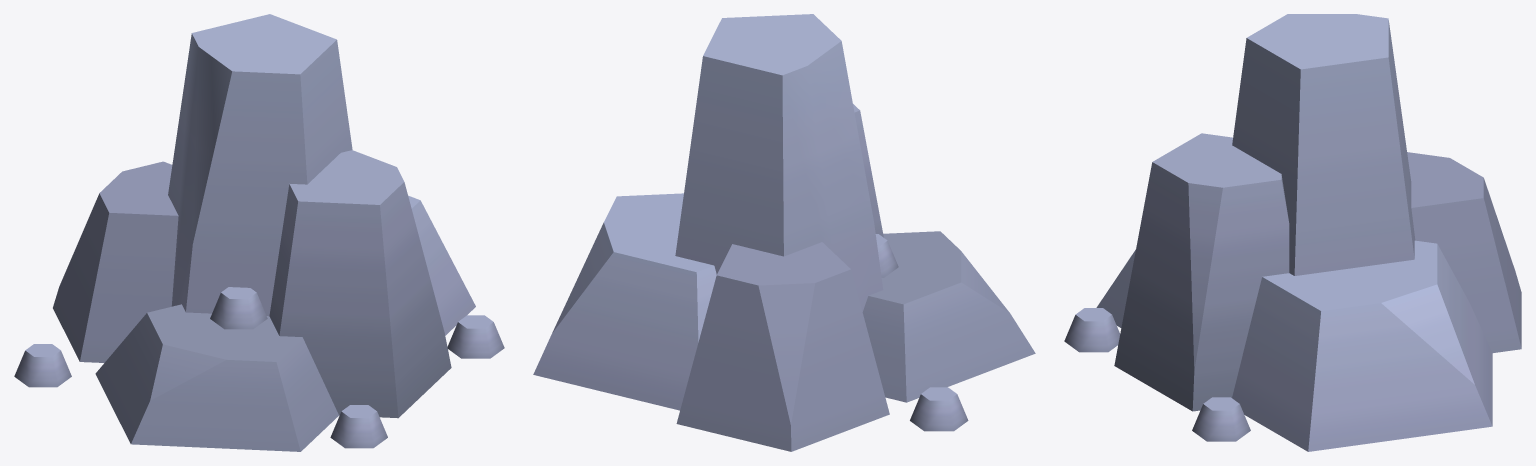
File: rock-large.glb
The picture shows the model from 3 angles, left to right: view 1: azimuth 30°, elevation 25°; view 2: azimuth 150°, elevation 25°; view 3: azimuth 270°, elevation 25°; orthographic projection. The views are drawn at different scales.
Parts seen in each view (by area): view 1: rock-large; view 2: rock-large; view 3: rock-large.
Boxes of the visible parts, x1=… form: rock-large: x1=14, y1=14, x2=504, y2=451; rock-large: x1=533, y1=14, x2=1035, y2=451; rock-large: x1=1064, y1=14, x2=1521, y2=451.
Size of the model in its own units: 1.67 by 1.16 by 1.55.
Materials: 1 (1 with a texture image).
